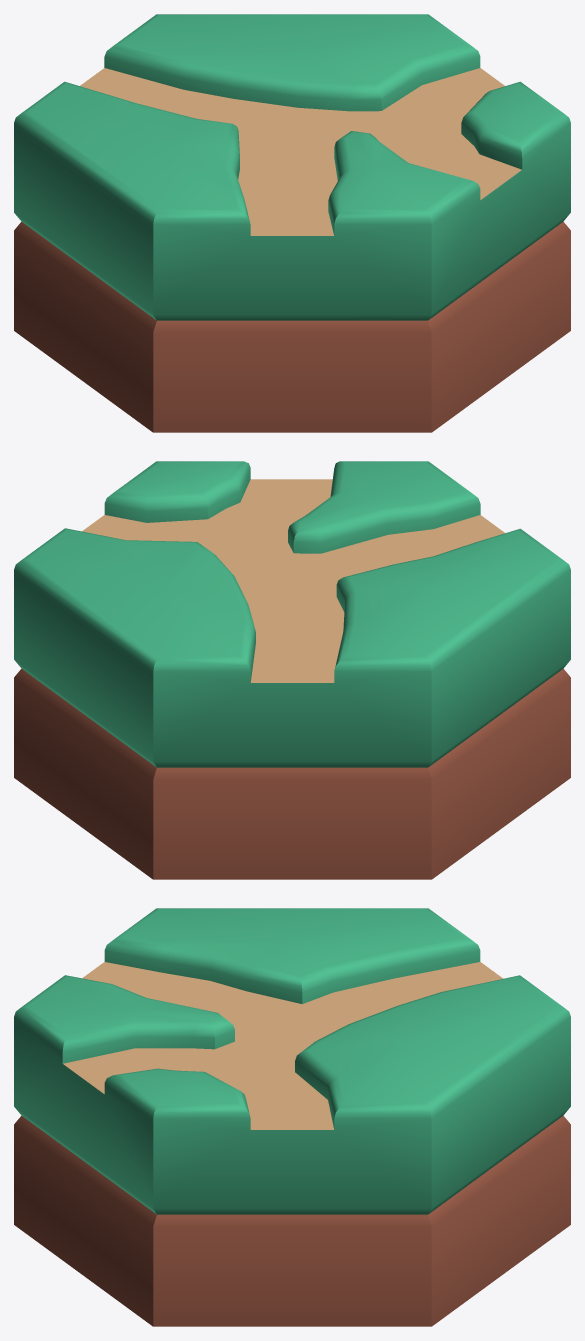
Rendered from kaykit-hex-forest-roadi-detail.glb.
3 renders of one model, top to bottom at view 1: azimuth 30°, elevation 25°; view 2: azimuth 150°, elevation 25°; view 3: azimuth 270°, elevation 25°, orthographic.
Visible parts, largest first — view 1: hex_forest_roadI_detail; view 2: hex_forest_roadI_detail; view 3: hex_forest_roadI_detail.
Part boxes in pixels (x1,y1,x2,y2): hex_forest_roadI_detail: (14, 14, 570, 432); hex_forest_roadI_detail: (14, 461, 570, 879); hex_forest_roadI_detail: (14, 908, 570, 1326).
Size of the model in its own units: 2 by 1 by 2.31.
